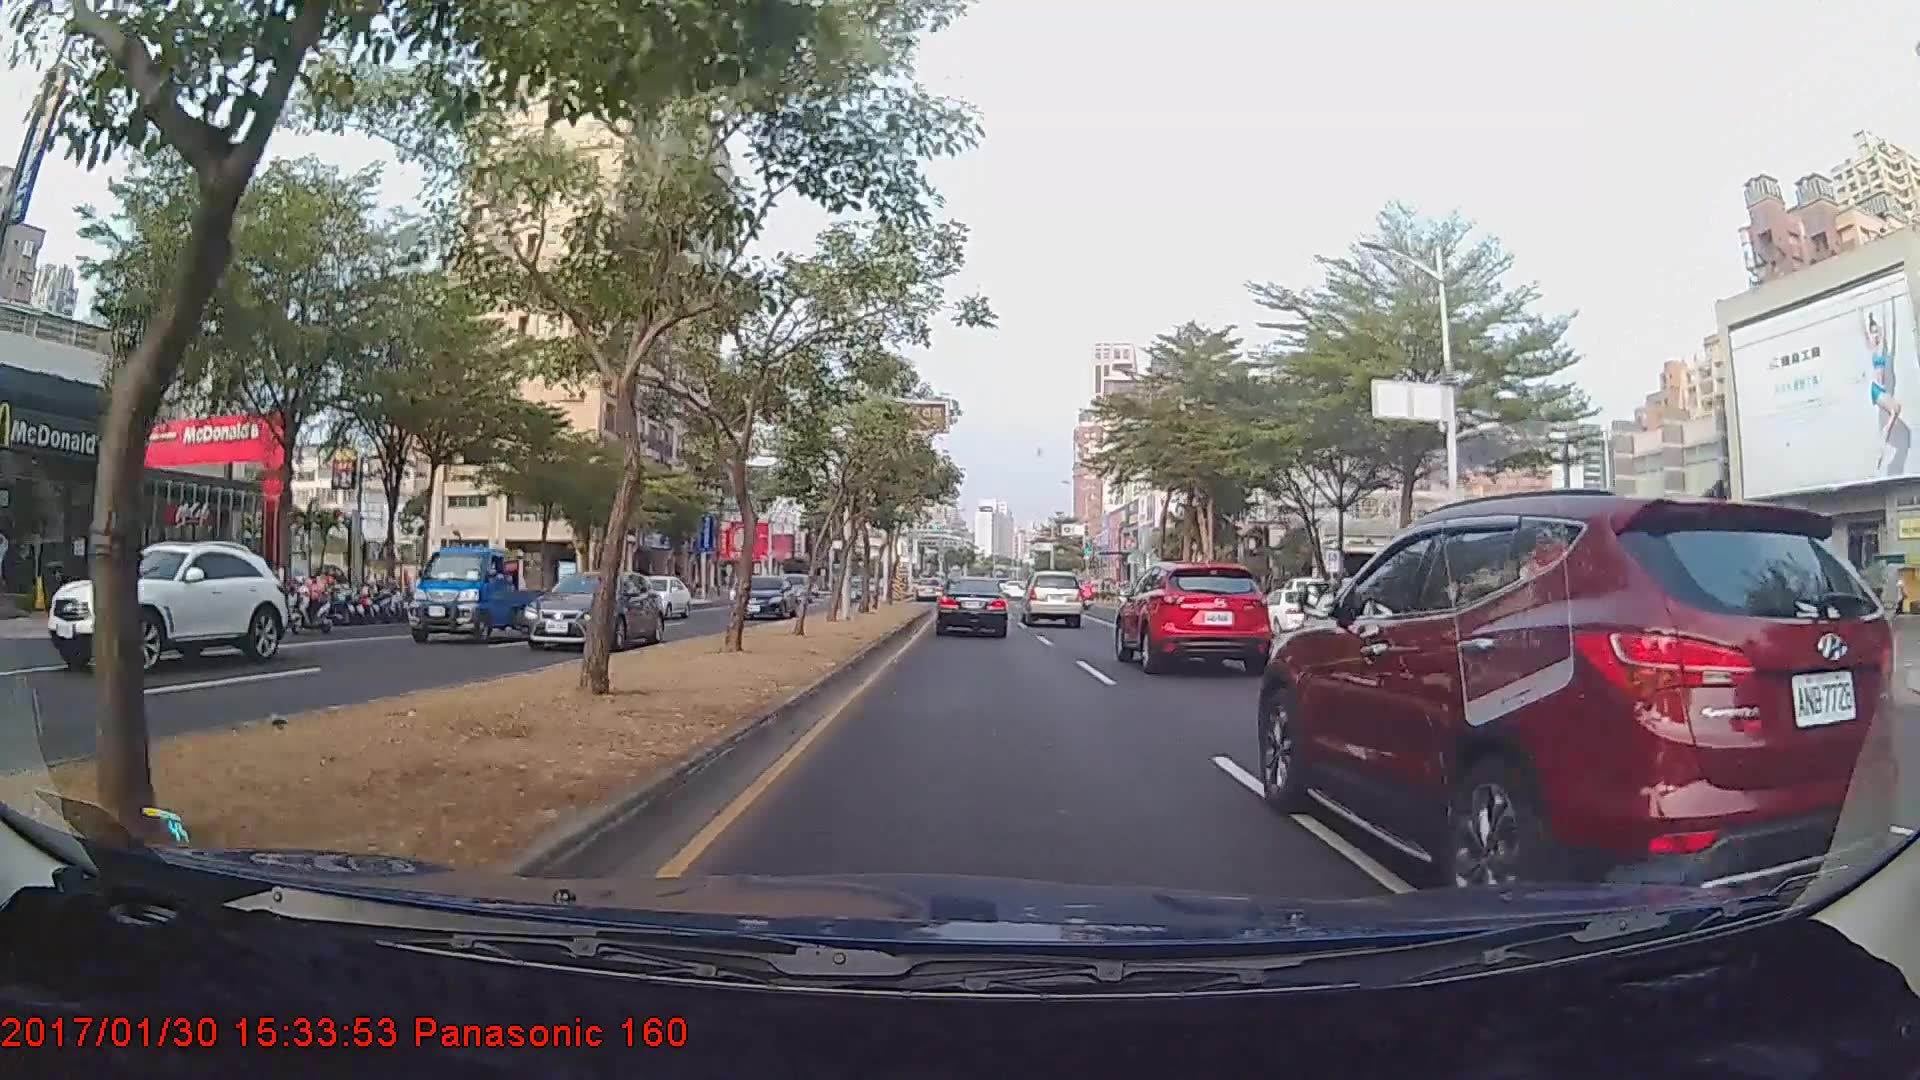vehicle: (1255, 491, 1894, 943), (44, 539, 287, 674), (1114, 564, 1270, 676), (401, 545, 554, 644), (520, 567, 662, 649), (935, 574, 1009, 638), (1021, 568, 1083, 626), (618, 574, 691, 618), (733, 574, 798, 621), (914, 578, 940, 599)
